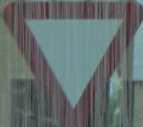Give way: (4, 2, 137, 113)
